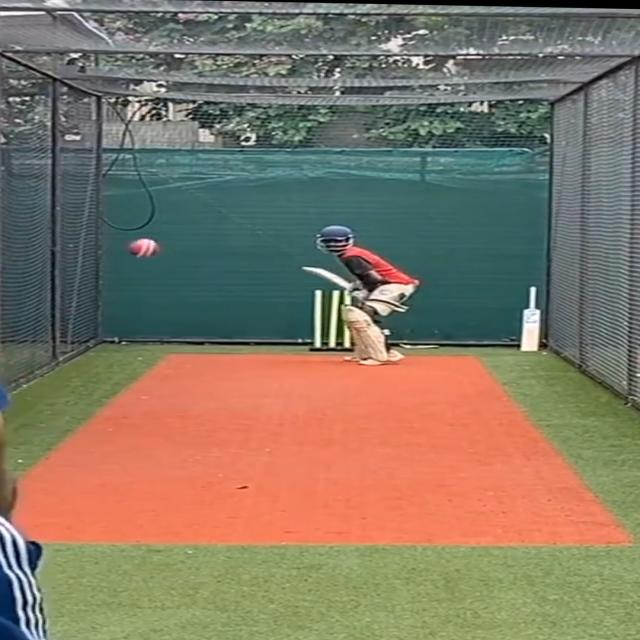ball: (120, 237, 166, 259)
stump: (308, 286, 358, 352)
